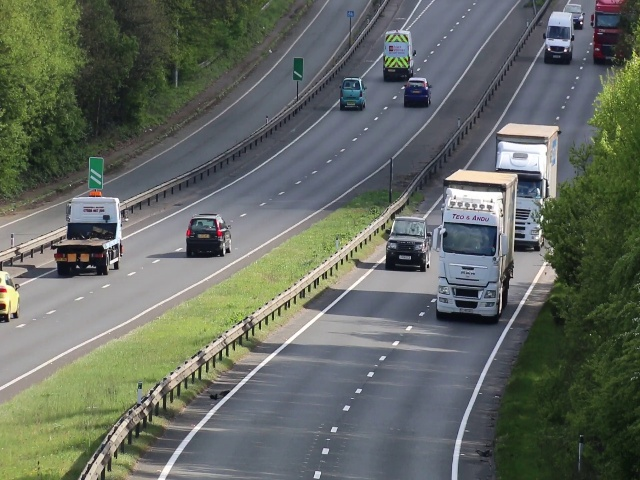car: (436, 218, 503, 320), (53, 194, 122, 278), (386, 214, 431, 269), (185, 214, 233, 255), (518, 163, 538, 252), (543, 15, 573, 66), (592, 13, 618, 63), (383, 32, 411, 77), (1, 272, 23, 318), (338, 76, 366, 112), (403, 77, 432, 107)
